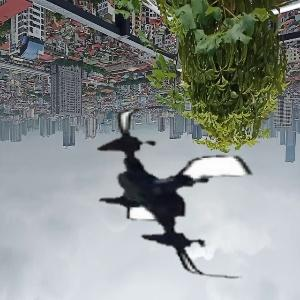drone: (87, 98, 276, 287)
